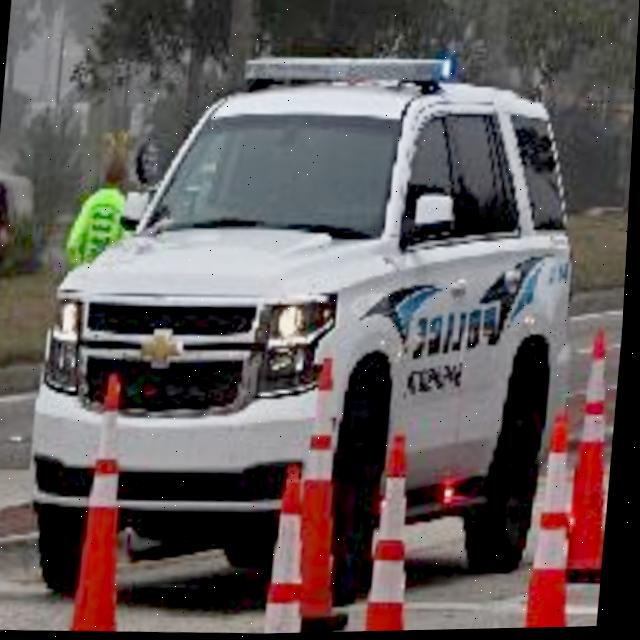emergency: (28, 37, 592, 618)
